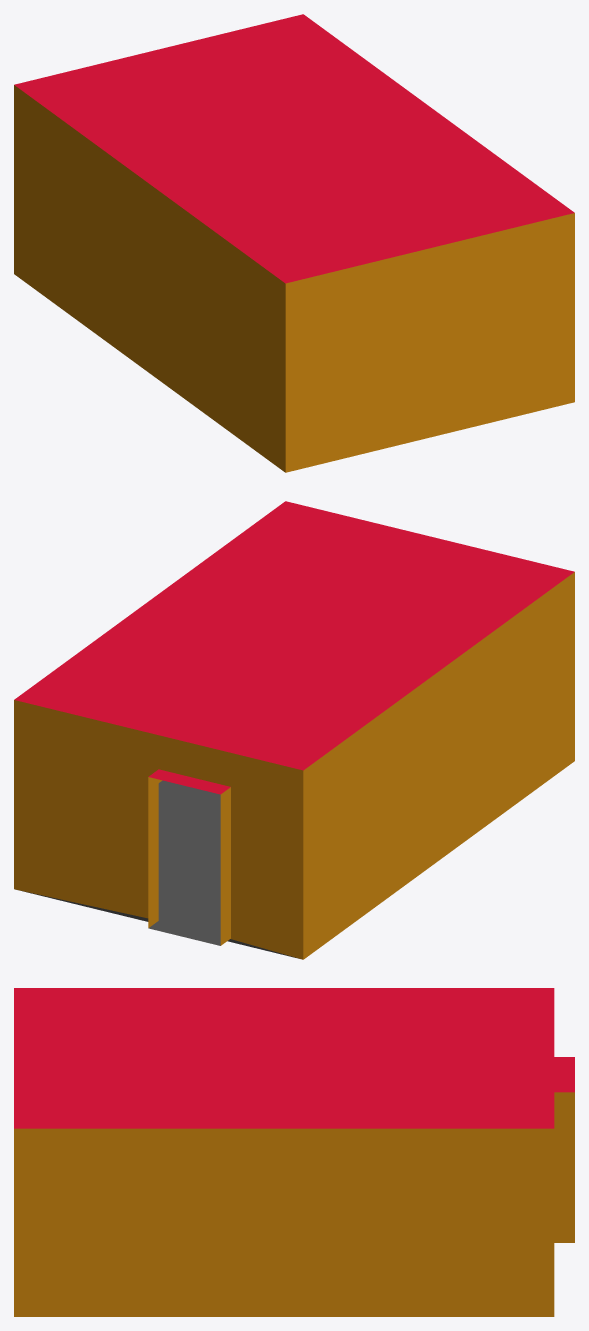
File: Floor1_BedroomMatthewMesh.gltf
3 renders of one model, top to bottom at view 1: azimuth 30°, elevation 25°; view 2: azimuth 150°, elevation 25°; view 3: azimuth 270°, elevation 25°, orthographic.
Visible parts, largest first — view 1: Floor1_BedroomMatthewMesh; view 2: Floor1_BedroomMatthewMesh; view 3: Floor1_BedroomMatthewMesh.
Boxes of the visible parts, left/top/right/bottom form: Floor1_BedroomMatthewMesh: left=14, top=14, right=574, bottom=472; Floor1_BedroomMatthewMesh: left=14, top=501, right=574, bottom=959; Floor1_BedroomMatthewMesh: left=14, top=988, right=574, bottom=1316.
Bounding box in the file's own units: 8 × 5 × 13.5.
